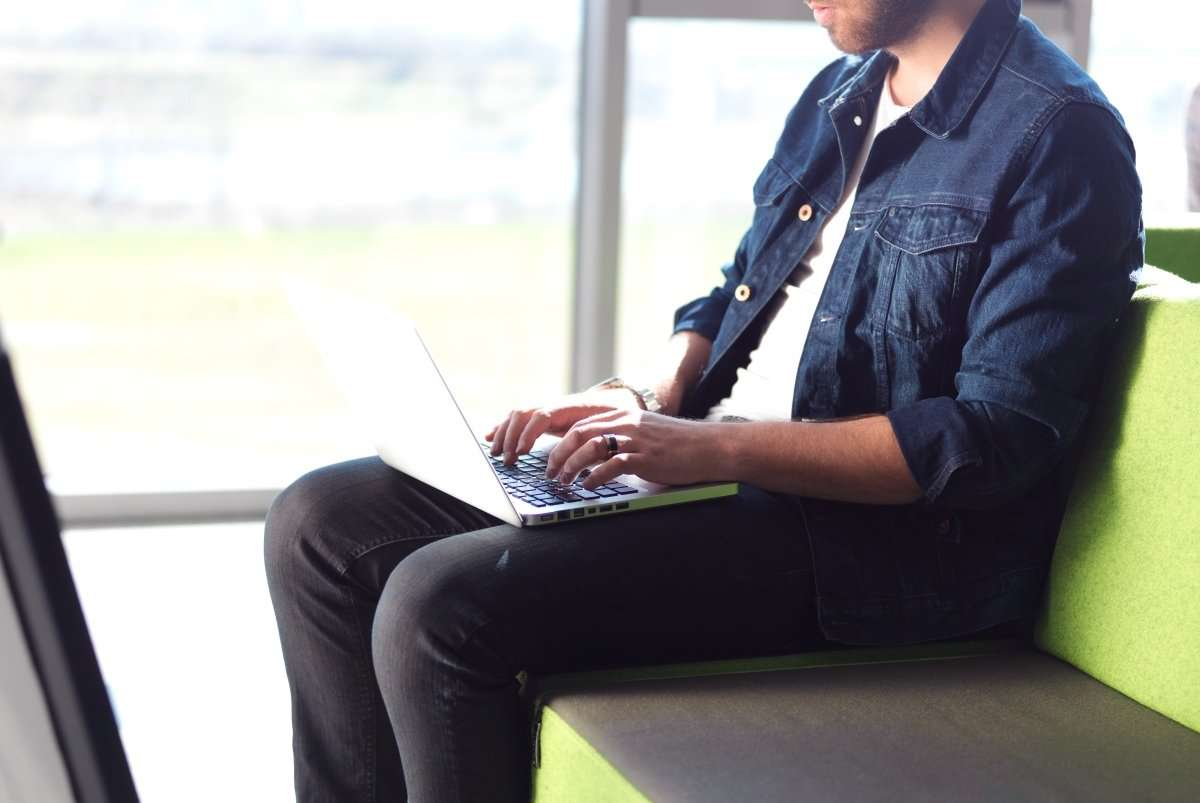not a gesture sign: (0, 0, 582, 494), (618, 23, 831, 356)
